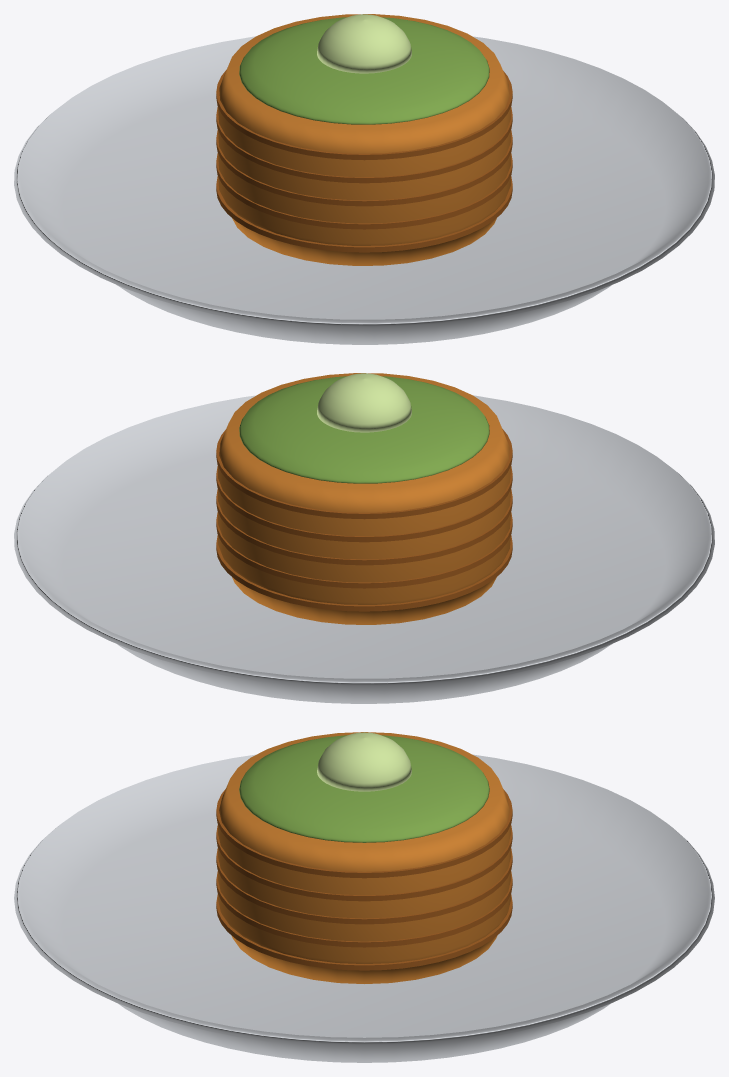
The model's file is alba-new-york-roll.glb.
The picture shows the model from 3 angles, top to bottom: view 1: azimuth 30°, elevation 25°; view 2: azimuth 150°, elevation 25°; view 3: azimuth 270°, elevation 25°; orthographic projection.
Size of the model in its own units: 0.22 by 0.0705 by 0.22.
